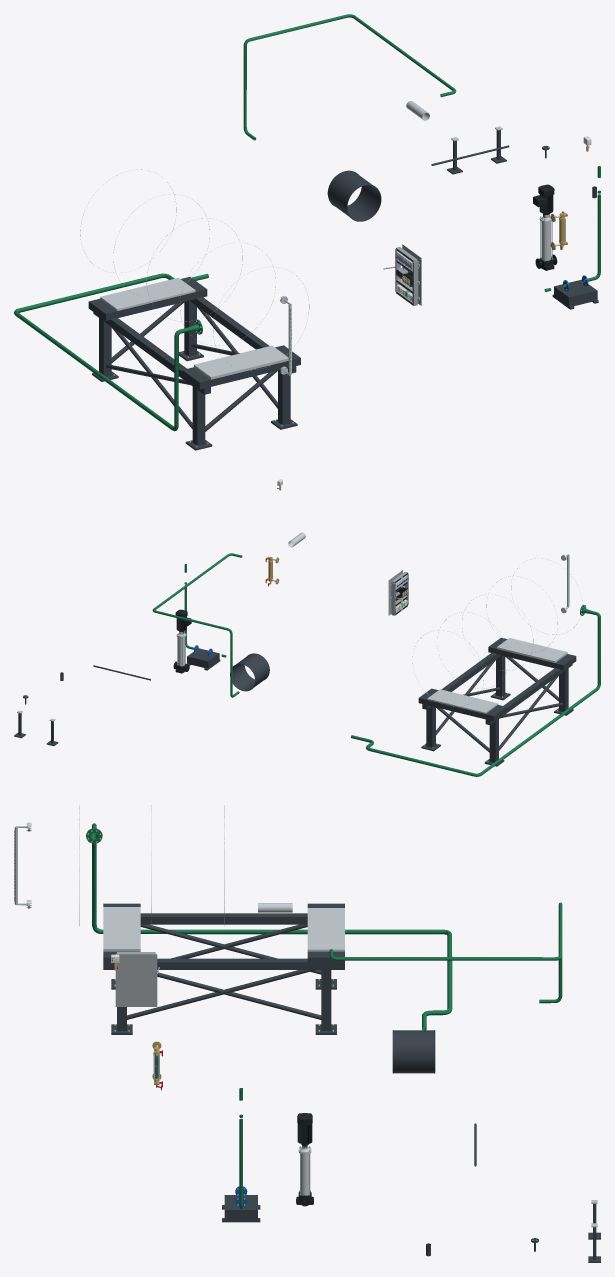
The picture shows the model from 3 angles, top to bottom: view 1: azimuth 30°, elevation 25°; view 2: azimuth 150°, elevation 25°; view 3: azimuth 270°, elevation 25°; orthographic projection. The views are drawn at different scales.
Parts seen in each view (by area): view 1: deaerator_support / dark, deaerator_support / steel, deaerator_feed / green, flue_spacer / dark, cabinet_interior / cabinet_interior_0.npz, from_economizer / green, pump_branch_1 / dark, deaerator_details / steel; view 2: deaerator_support / dark, deaerator_support / steel, deaerator_feed / green, flue_spacer / dark, cabinet_interior / cabinet_interior_0.npz, from_economizer / green, pump_branch_1 / dark, deaerator_details / steel; view 3: deaerator_support / dark, deaerator_support / steel, deaerator_feed / green, cabinet_interior / cabinet_interior_0.npz, flue_spacer / dark, from_economizer / green, pump_branch_1 / dark, deaerator_details / steel.
Part boxes in pixels (bbox=[...]): deaerator_support / dark: bbox=[88, 277, 300, 450]; deaerator_support / steel: bbox=[100, 277, 293, 447]; deaerator_feed / green: bbox=[14, 273, 208, 431]; flue_spacer / dark: bbox=[327, 170, 381, 221]; cabinet_interior / cabinet_interior_0.npz: bbox=[383, 244, 421, 305]; from_economizer / green: bbox=[243, 14, 456, 140]; pump_branch_1 / dark: bbox=[552, 279, 598, 309]; deaerator_details / steel: bbox=[80, 169, 309, 375]; deaerator_support / dark: bbox=[418, 637, 576, 766]; deaerator_support / steel: bbox=[424, 638, 567, 762]; deaerator_feed / green: bbox=[351, 604, 600, 776]; flue_spacer / dark: bbox=[230, 653, 269, 691]; cabinet_interior / cabinet_interior_0.npz: bbox=[388, 570, 408, 615]; from_economizer / green: bbox=[152, 553, 242, 697]; pump_branch_1 / dark: bbox=[186, 648, 220, 670]; deaerator_details / steel: bbox=[412, 554, 582, 706]; deaerator_support / dark: bbox=[103, 903, 344, 1034]; deaerator_support / steel: bbox=[103, 907, 344, 1031]; deaerator_feed / green: bbox=[86, 823, 452, 1030]; cabinet_interior / cabinet_interior_0.npz: bbox=[115, 952, 159, 1006]; flue_spacer / dark: bbox=[392, 1030, 435, 1073]; from_economizer / green: bbox=[329, 902, 562, 1003]; pump_branch_1 / dark: bbox=[222, 1195, 260, 1222]; deaerator_details / steel: bbox=[14, 805, 224, 925].
Bounding box in the file's own units: 8.53 × 3.06 × 6.89.
